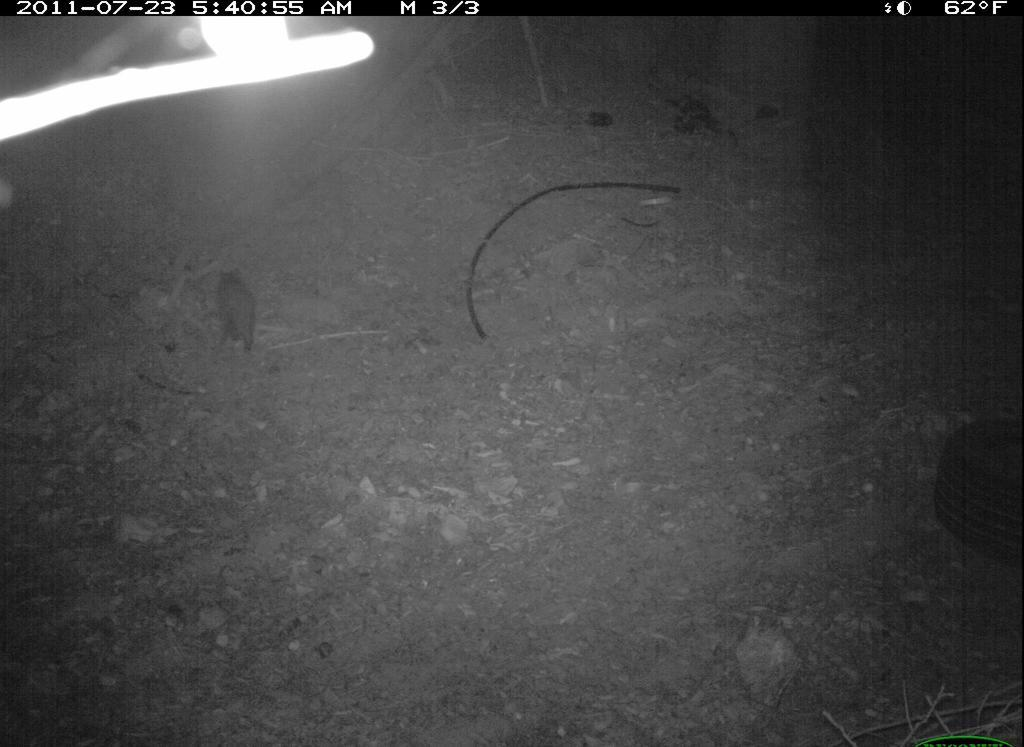opossum: (186, 253, 319, 376)
